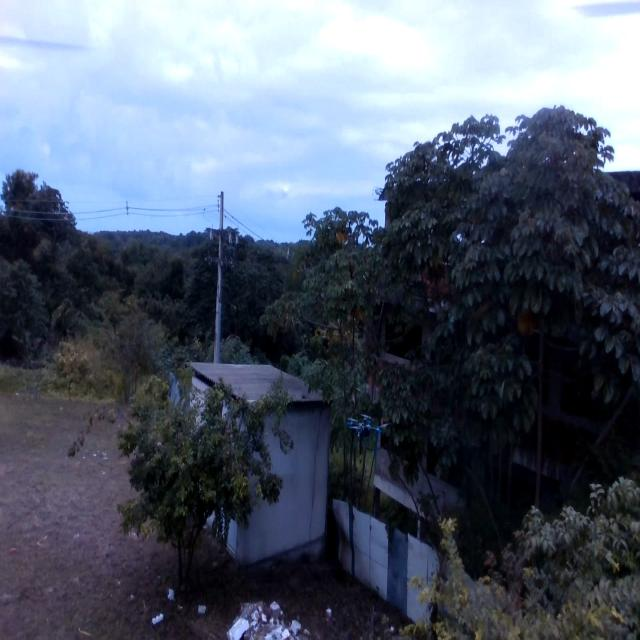-uav-: (344, 403, 394, 468)
